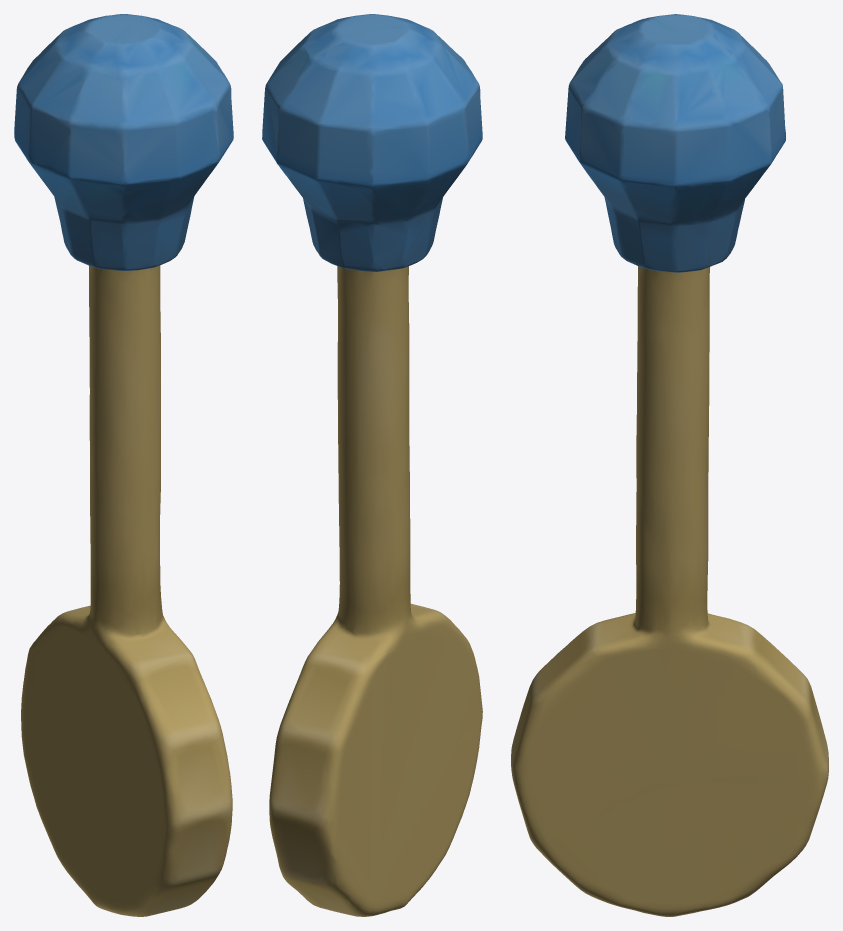
File: SM_leverBlue.fbx
3 views of the same model, side by side, from view 1: azimuth 30°, elevation 25°; view 2: azimuth 150°, elevation 25°; view 3: azimuth 270°, elevation 25° (orthographic).
Visible parts, largest first — view 1: lever_blue; view 2: lever_blue; view 3: lever_blue.
Boxes of the visible parts, x1=… form: lever_blue: x1=14, y1=14, x2=233, y2=916; lever_blue: x1=262, y1=14, x2=482, y2=916; lever_blue: x1=511, y1=14, x2=828, y2=916.
Size of the model in its own units: 16.98 by 74.32 by 24.44.
